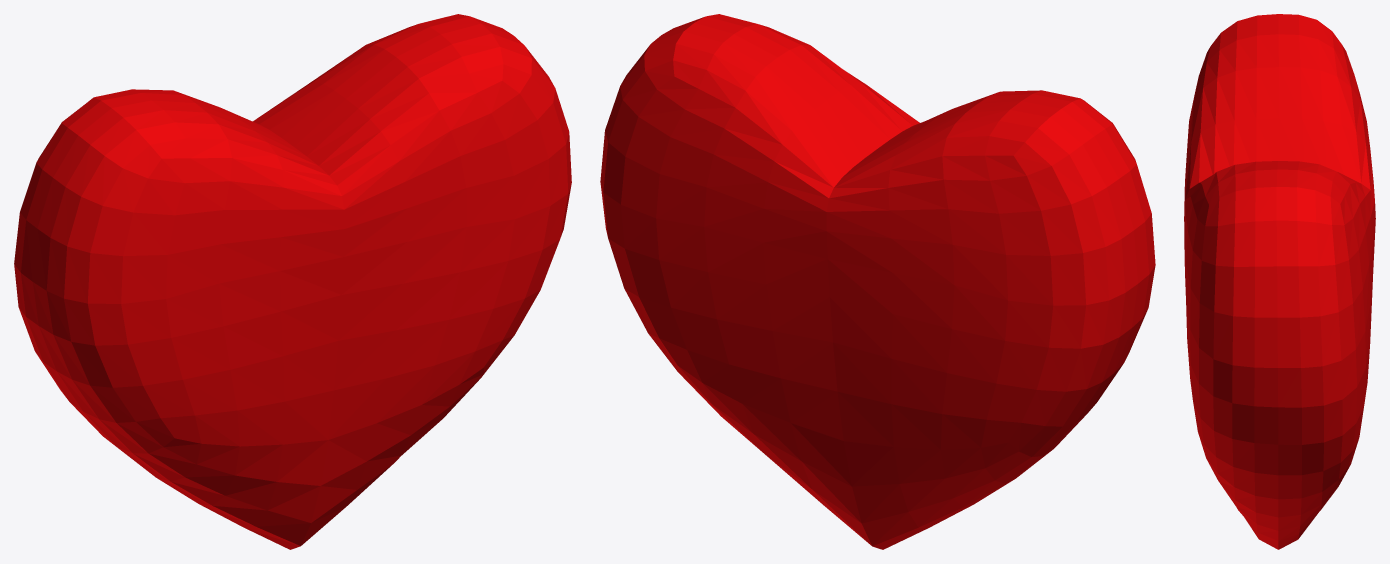
File: corazon.glb
3 views of the same model, side by side, from view 1: azimuth 30°, elevation 25°; view 2: azimuth 150°, elevation 25°; view 3: azimuth 270°, elevation 25° (orthographic). The views are drawn at different scales.
Visible parts, largest first — view 1: heartStl; view 2: heartStl; view 3: heartStl.
Part boxes in pixels (bbox=[...]): heartStl: bbox=[14, 14, 571, 549]; heartStl: bbox=[600, 14, 1155, 549]; heartStl: bbox=[1184, 14, 1375, 549].
Size of the model in its own units: 4.4 by 3.92 by 1.5.
